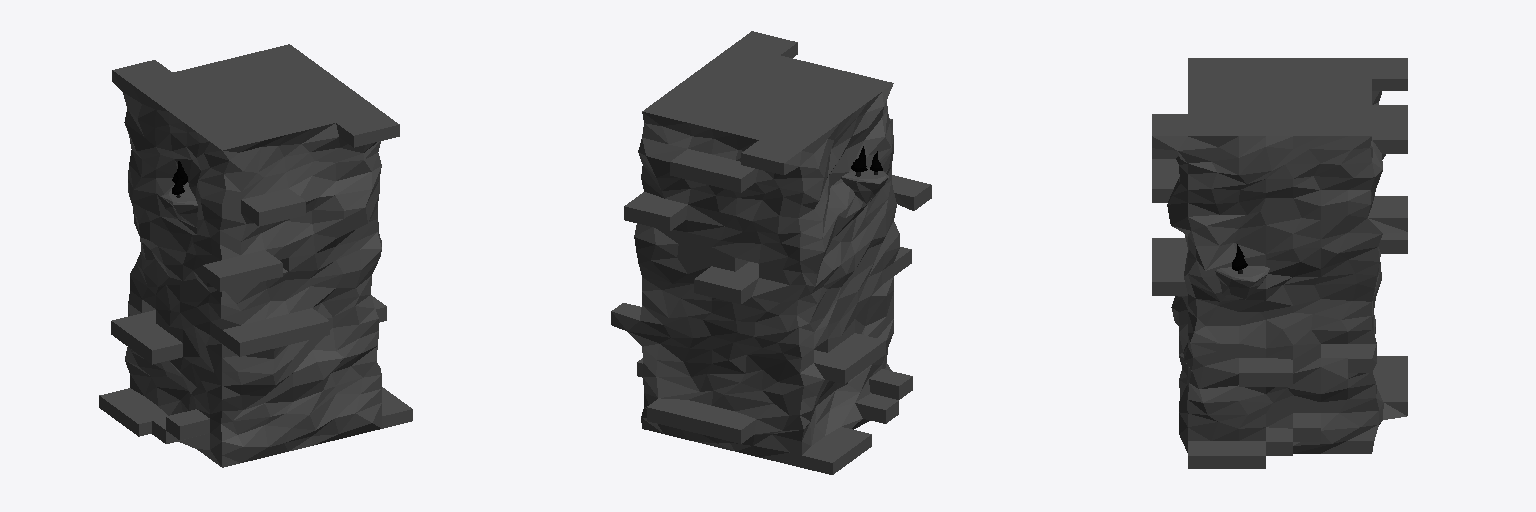
File: Lvl.obj
The picture shows the model from 3 angles: view 1: azimuth 30°, elevation 25°; view 2: azimuth 150°, elevation 25°; view 3: azimuth 270°, elevation 25°; orthographic projection.
Parts seen in each view (by area): view 1: Level, Box196; view 2: Level, Box196; view 3: Level, Box376.
Boxes of the visible parts, x1=… form: Level: x1=99, y1=44, x2=412, y2=467; Box196: x1=161, y1=182, x2=197, y2=227; Level: x1=611, y1=31, x2=931, y2=474; Box196: x1=841, y1=168, x2=888, y2=203; Level: x1=1152, y1=58, x2=1407, y2=468; Box376: x1=1215, y1=266, x2=1269, y2=299.
Bounding box in the file's own units: 194 × 266 × 194.